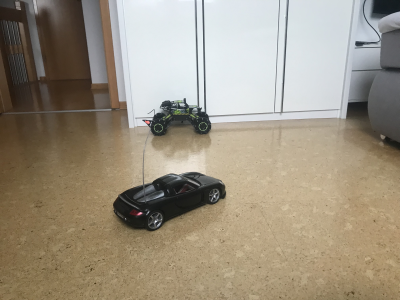remote control car: (145, 96, 213, 138)
